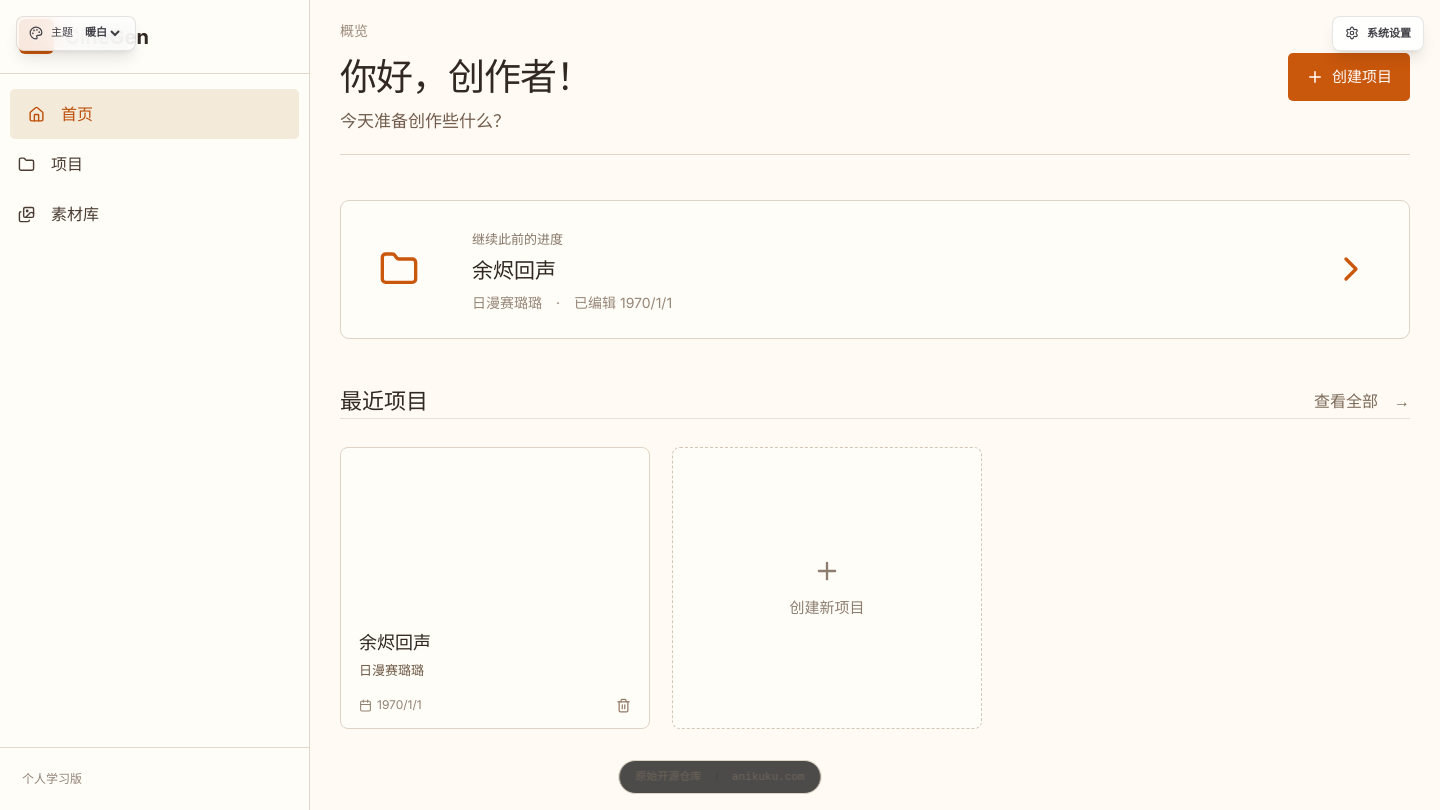
Scenario: App settings entry › opens the real settings dialog from the project Sidebar
Expected: the 2nd heading "余烬回声" is shown, [359,632,431,652]
Click the element "余烬回声" at (495, 588), box [340,446,650,729]
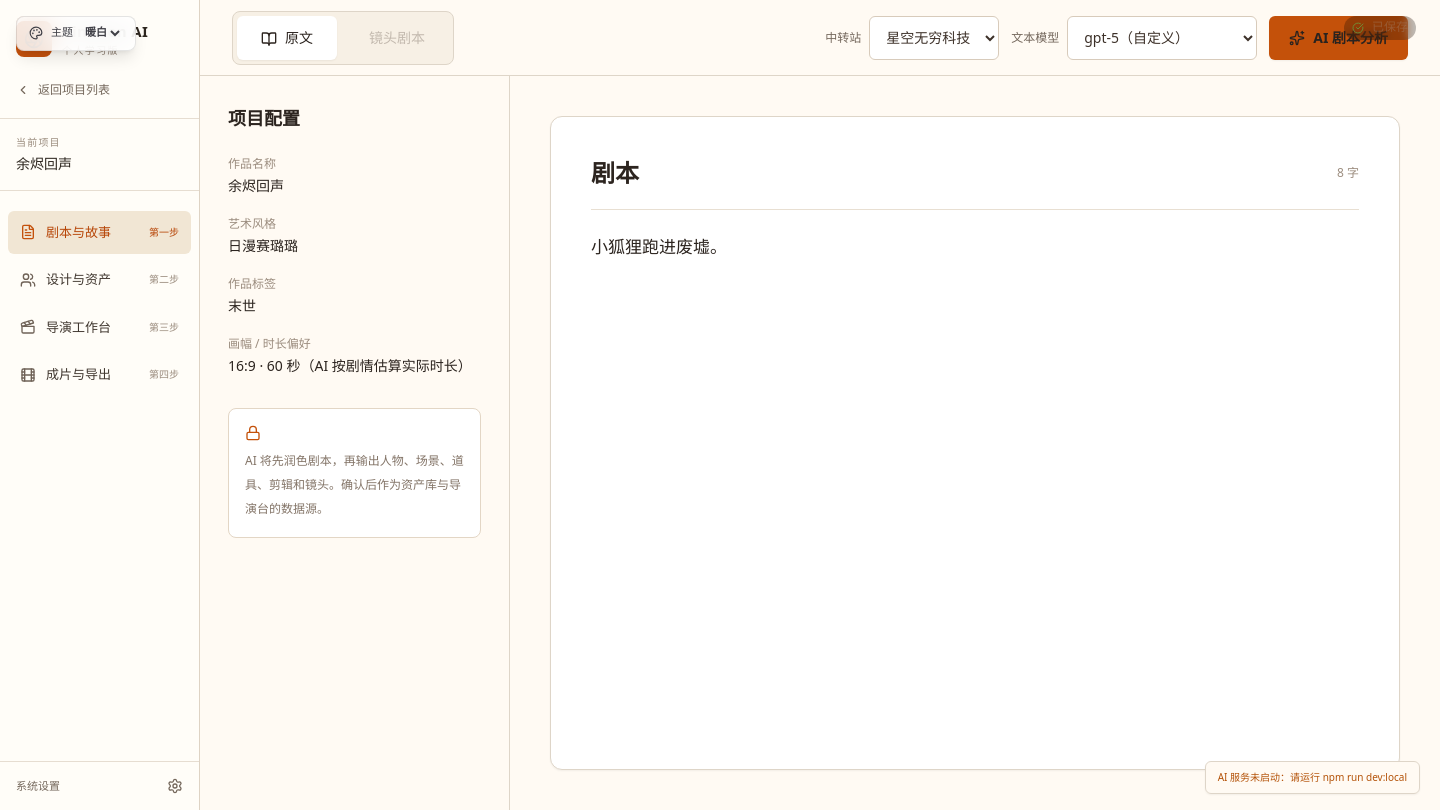
Expected: the text "当前项目" is shown, [16,134,61,148]
Click the button "系统设置" at (100, 786), box [16,778,183,794]
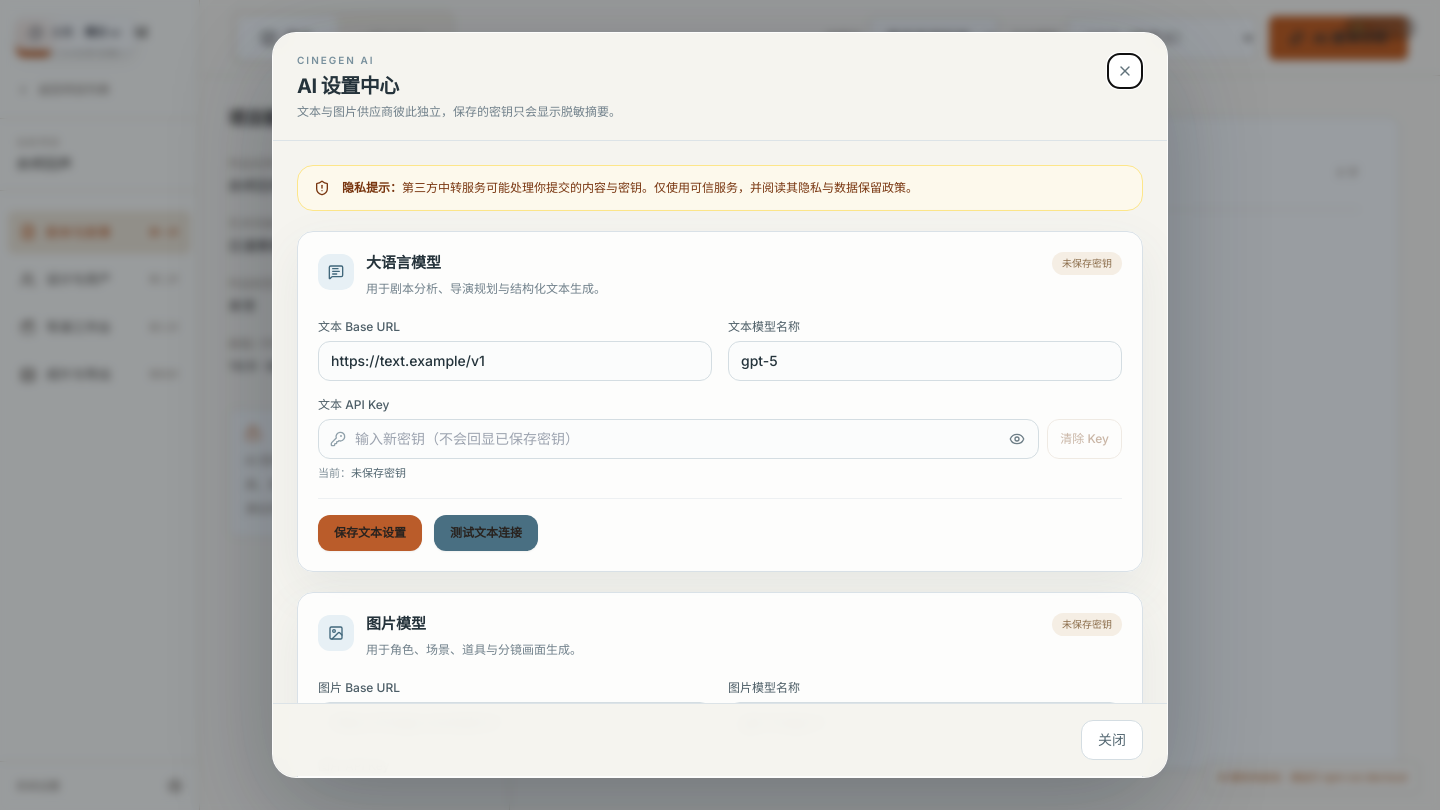
Expected: the dialog "AI 设置中心" is shown, [272,32,1168,778]
